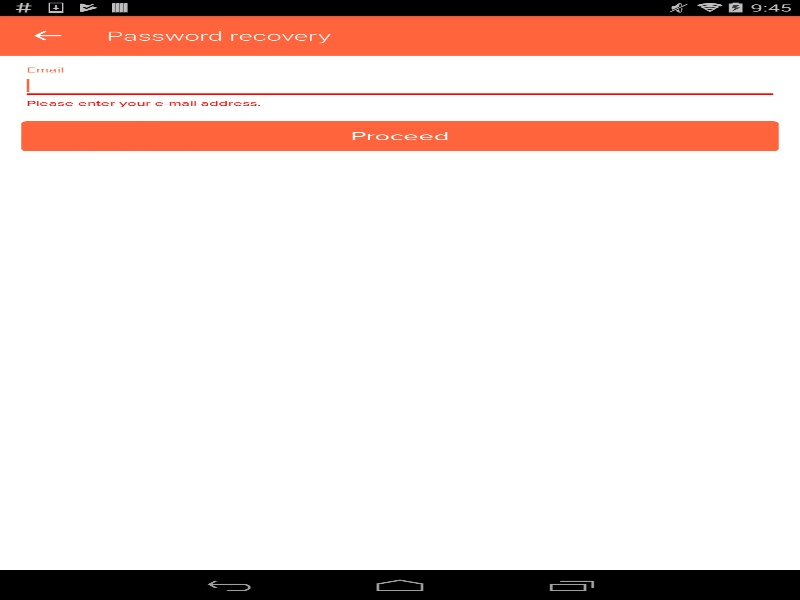Button: (21, 121, 778, 151), (10, 15, 85, 55)
Input: (21, 72, 778, 99)
